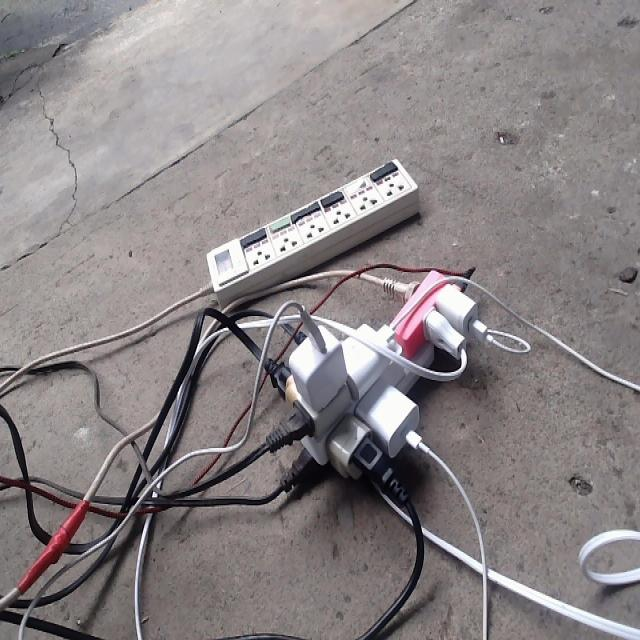-: (254, 271, 489, 505)
